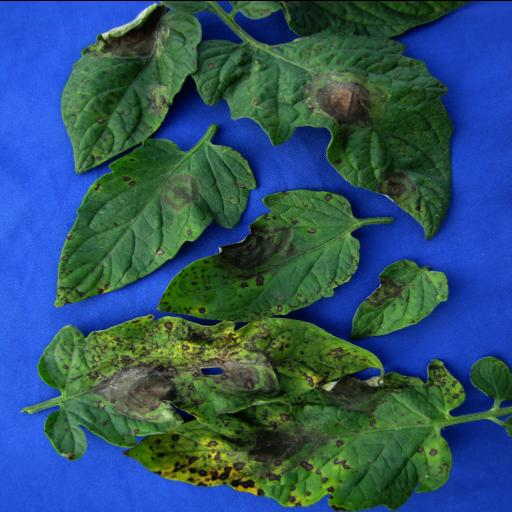Late Blight: (202, 16, 474, 244), (123, 346, 467, 507), (11, 315, 387, 458), (52, 134, 248, 308), (158, 183, 362, 320), (65, 4, 205, 176), (348, 254, 450, 336)
